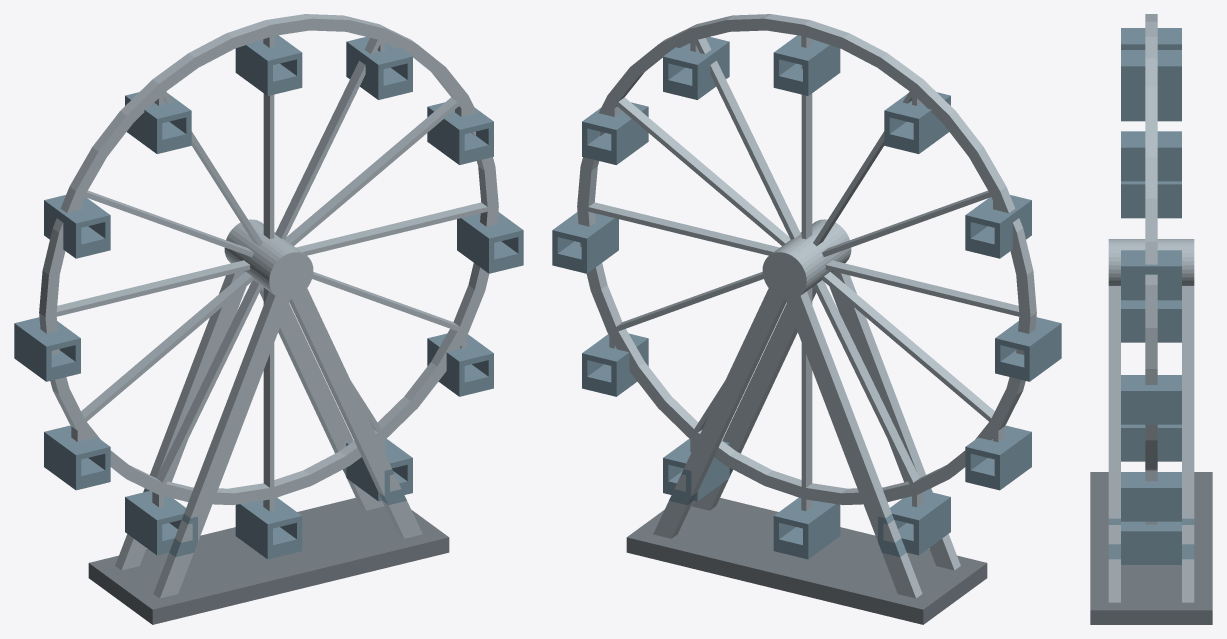
The model's file is NEW_RECOVERY_012_LOD2.glb.
The picture shows the model from 3 angles, left to right: view 1: azimuth 30°, elevation 25°; view 2: azimuth 150°, elevation 25°; view 3: azimuth 270°, elevation 25°; orthographic projection. The views are drawn at different scales.
Parts seen in each view (by area): view 1: FerrisWheel; view 2: FerrisWheel; view 3: FerrisWheel.
Part boxes in pixels (x1,y1,x2,y2): FerrisWheel: (14,14,523,624); FerrisWheel: (552,14,1061,624); FerrisWheel: (1090,14,1212,624).
Bounding box in the file's own units: 10.78 × 11.72 × 2.5.
